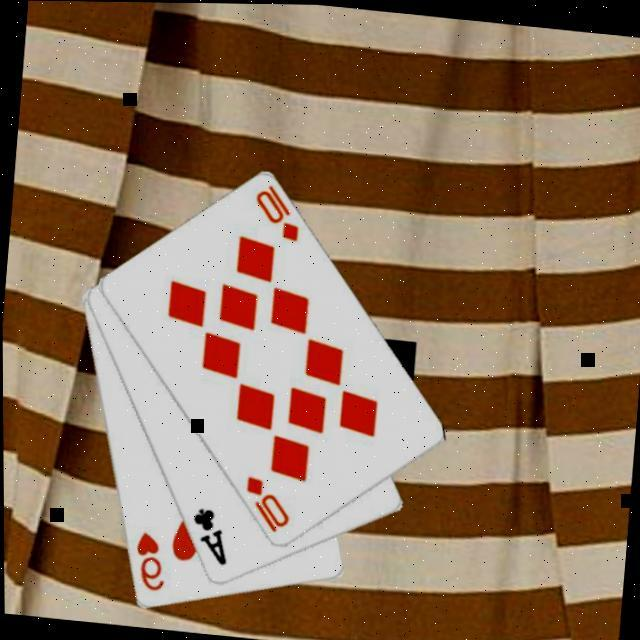10D: (236, 472, 293, 537), (245, 180, 302, 245)
6H: (126, 528, 167, 595)
AC: (183, 504, 230, 569)
